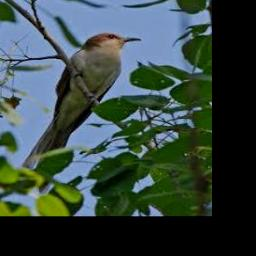Cuckoo: (22, 33, 142, 194)
